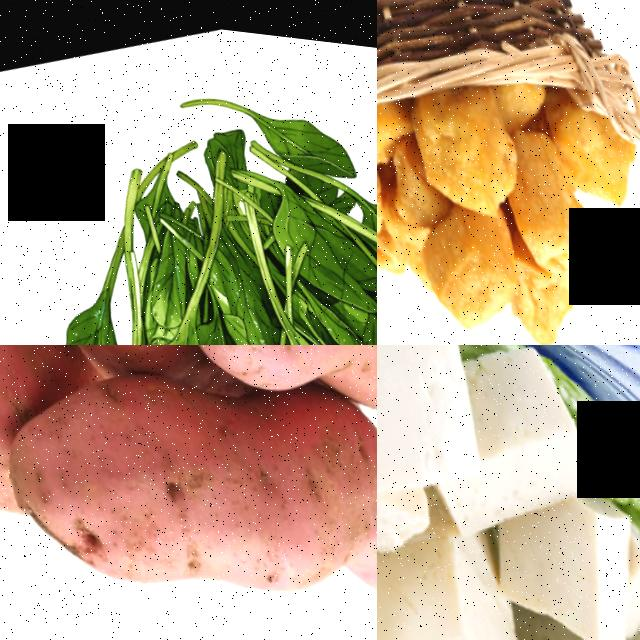spinach: (243, 147, 377, 326), (255, 81, 355, 184), (184, 298, 278, 345)
sweet potato: (0, 345, 377, 640), (116, 345, 377, 468)
tofu: (453, 345, 601, 525), (471, 483, 640, 640), (377, 500, 538, 640), (377, 345, 506, 518), (394, 67, 529, 221), (403, 199, 523, 331), (501, 114, 591, 270), (377, 88, 412, 178)
